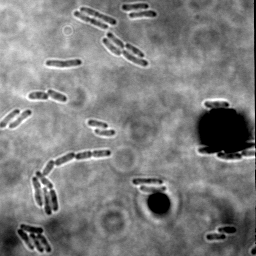Dividing: (79, 5, 118, 26), (73, 11, 109, 30), (45, 58, 82, 69)
Microcolony: (31, 148, 112, 216), (101, 31, 149, 68), (17, 224, 53, 254)
Rod: (8, 108, 33, 129), (1, 108, 20, 129), (45, 89, 68, 103), (202, 99, 230, 110), (120, 1, 149, 11), (138, 185, 167, 195), (26, 90, 49, 102), (216, 151, 243, 161), (132, 177, 163, 185), (92, 127, 116, 137), (87, 119, 108, 129), (205, 233, 228, 242), (216, 225, 238, 234)
